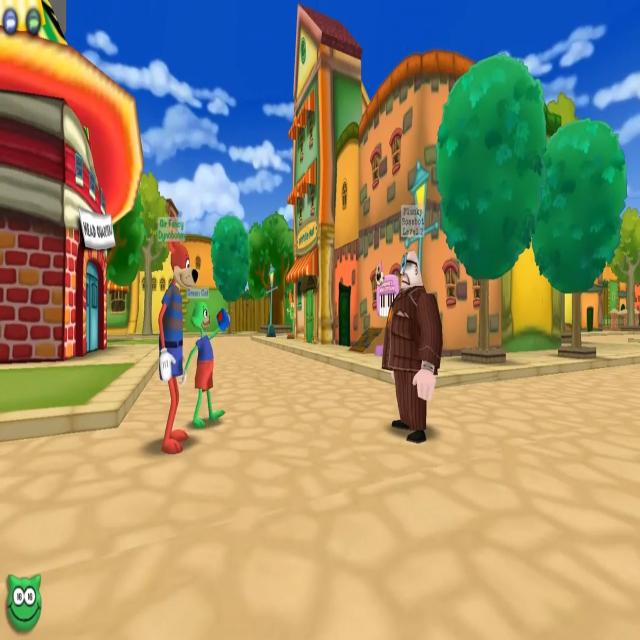flunky: (379, 204, 445, 445)
